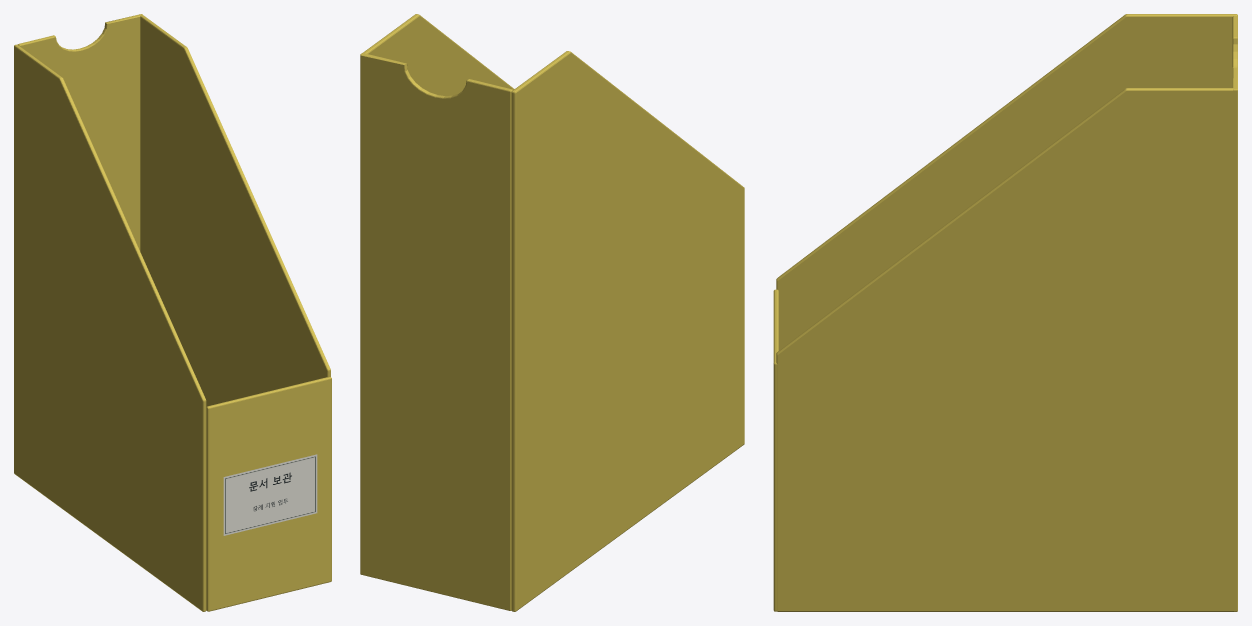
File: File_Box_Yellow_Empty.fbx
3 renders of one model, left to right at view 1: azimuth 30°, elevation 25°; view 2: azimuth 150°, elevation 25°; view 3: azimuth 270°, elevation 25°, orthographic. The views are drawn at different scales.
Parts seen in each view (by area): view 1: File_Box_Yellow_Empty; view 2: File_Box_Yellow_Empty; view 3: File_Box_Yellow_Empty.
Part boxes in pixels (x1,y1,x2,y2): File_Box_Yellow_Empty: (14, 14, 331, 611); File_Box_Yellow_Empty: (360, 14, 744, 611); File_Box_Yellow_Empty: (773, 14, 1237, 611).
Size of the model in its own units: 0.0958 by 0.306 by 0.2467.
2 materials, 1 textured.
